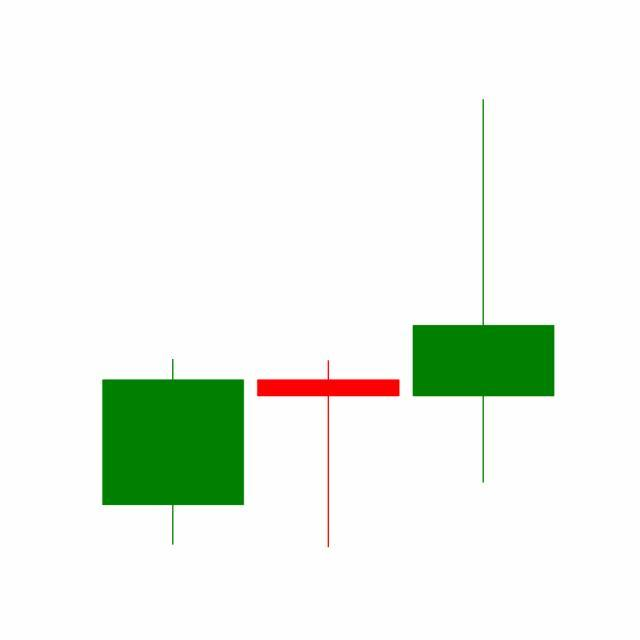Spinning Top: (406, 95, 562, 487)
